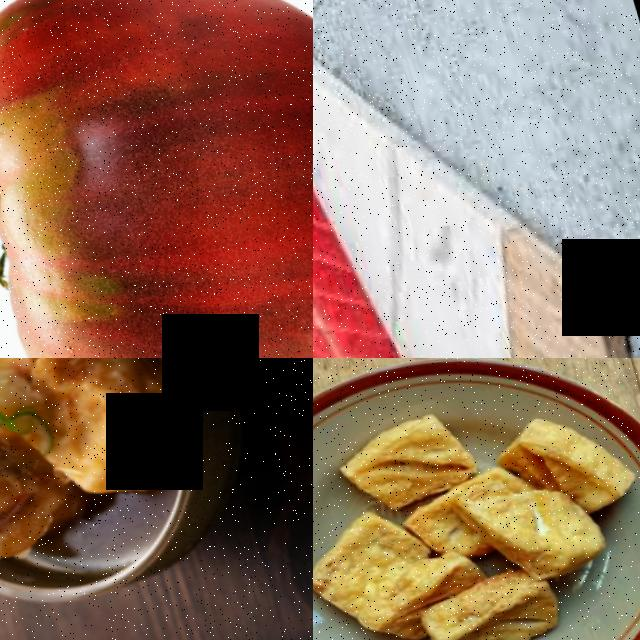tofu: (23, 358, 178, 501), (490, 398, 637, 537), (451, 471, 603, 587), (326, 398, 476, 514), (313, 503, 433, 627), (404, 556, 561, 640), (0, 405, 64, 590)
tomato: (0, 0, 313, 358)
tuna: (313, 56, 429, 358)
